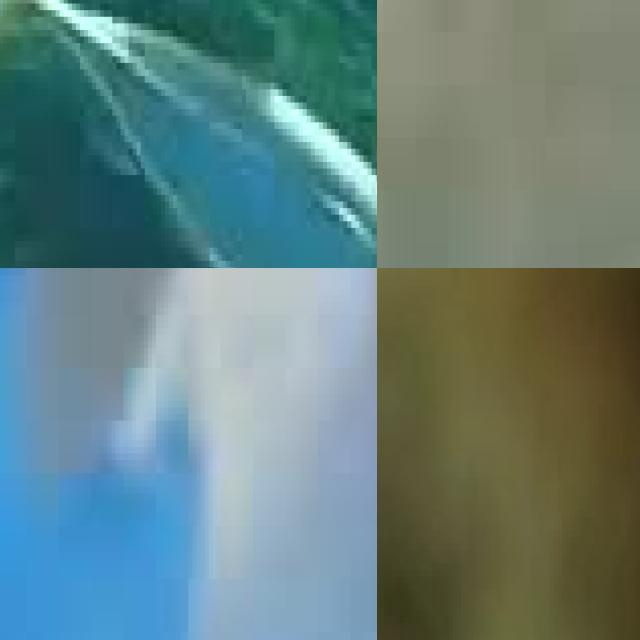fish: (0, 0, 377, 268), (377, 0, 640, 268)
